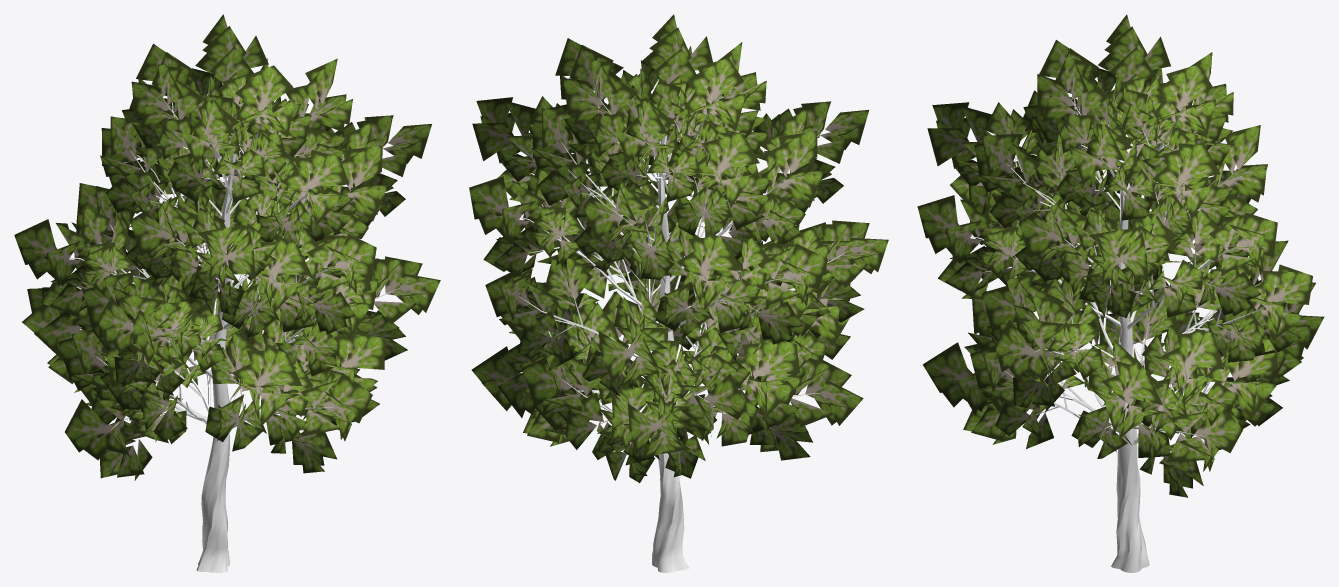
Rendered from hetre_feuilles.glb.
3 renders of one model, left to right at view 1: azimuth 30°, elevation 25°; view 2: azimuth 150°, elevation 25°; view 3: azimuth 270°, elevation 25°, orthographic.
Parts seen in each view (by area): view 1: Tree_1, Tree_0; view 2: Tree_1, Tree_0; view 3: Tree_1, Tree_0.
Part boxes in pixels (left/top/right/bottom): Tree_1: left=14, top=14, right=440, bottom=480; Tree_0: left=70, top=95, right=399, bottom=572; Tree_1: left=469, top=14, right=888, bottom=482; Tree_0: left=519, top=86, right=849, bottom=572; Tree_1: left=917, top=14, right=1324, bottom=497; Tree_0: left=971, top=90, right=1272, bottom=572.
Bounding box in the file's own units: 28.95 × 38.05 × 26.8.
Materials: 2 (1 with a texture image).
